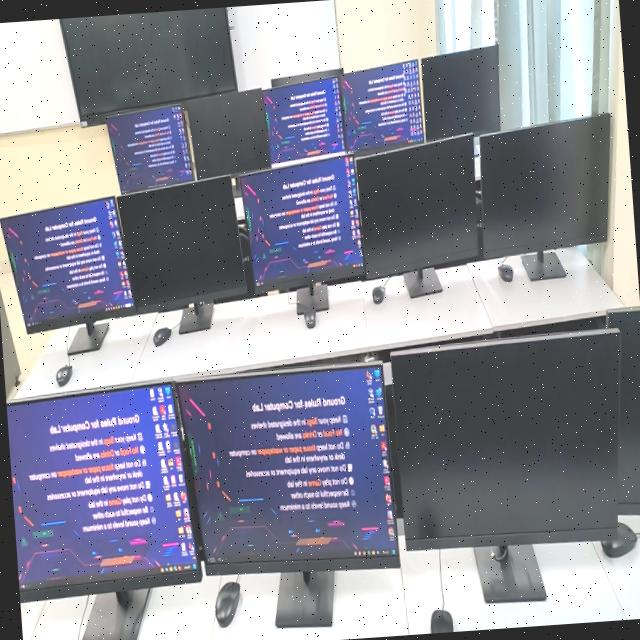Chair: (237, 220, 255, 296)
Digital board: (58, 6, 235, 124)
Monitor: (390, 327, 619, 548), (176, 361, 398, 573), (5, 381, 200, 599), (478, 112, 610, 272), (0, 196, 133, 331), (116, 175, 245, 312), (354, 134, 476, 277), (240, 154, 362, 289), (182, 87, 269, 178), (105, 103, 194, 191), (341, 58, 422, 151), (420, 44, 499, 139), (261, 75, 344, 163), (606, 305, 640, 512), (270, 67, 342, 86)
Mouse: (600, 521, 636, 556), (214, 581, 240, 626), (429, 608, 453, 633), (152, 325, 170, 344), (55, 364, 71, 385), (497, 262, 512, 281), (371, 284, 383, 303), (303, 309, 314, 327)
